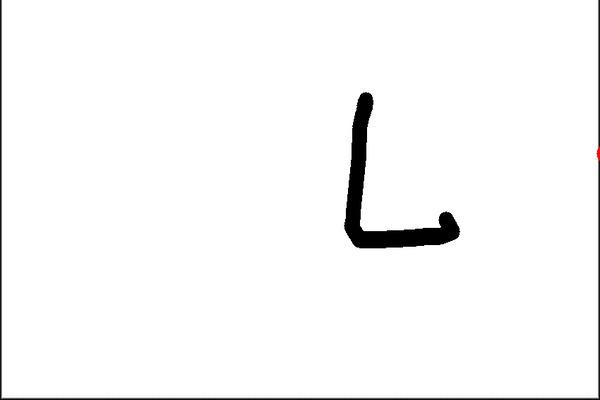L: (335, 78, 465, 252)
